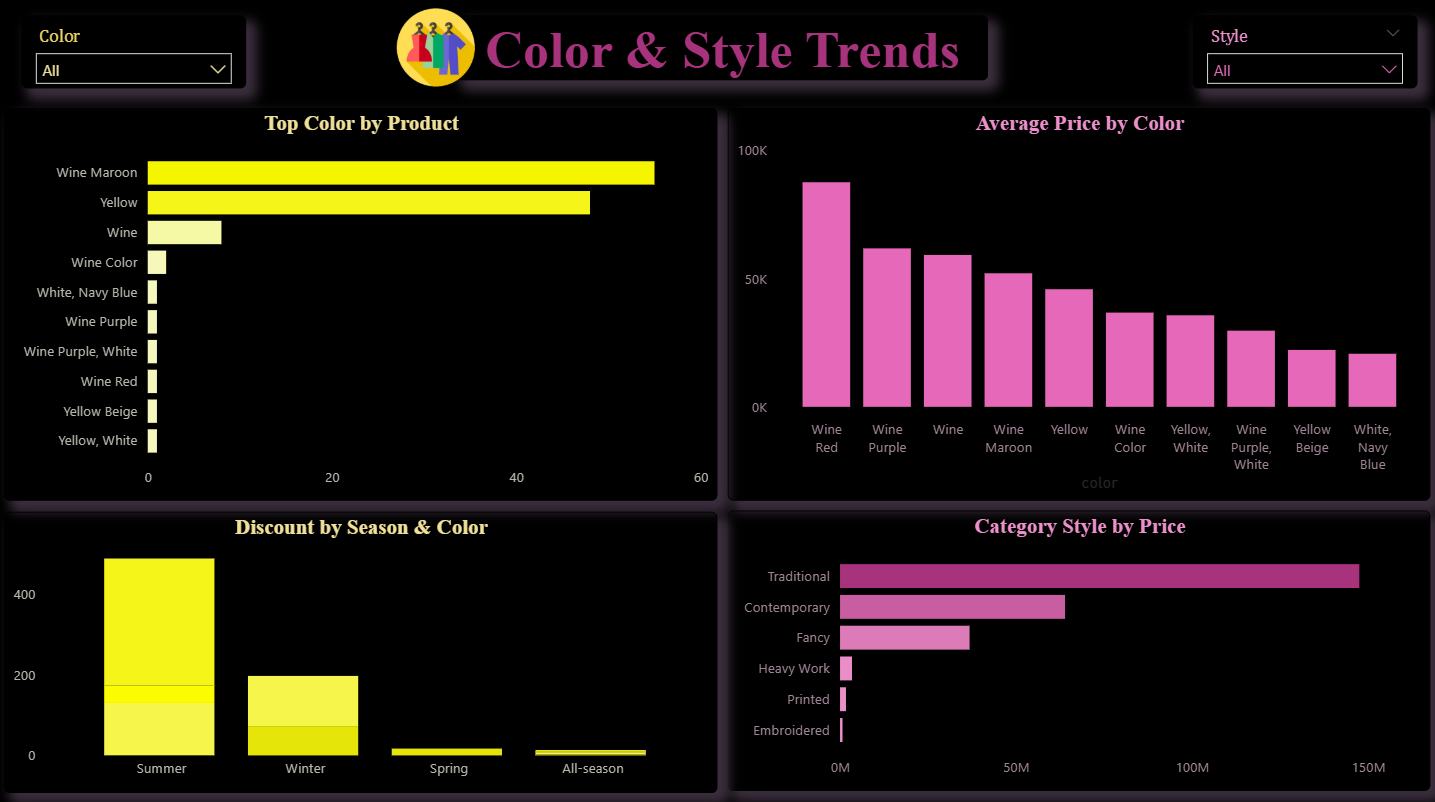

The dashboard page shown, as its layout file describes it:
{"tool":"powerbi","page":{"name":"Color & Style Trends","canvas":[1280,720],"ordinal":2},"visuals":[{"type":"textbox","title":"Color & Style Trends","box":[406.2,15.1,474.8,57.6],"z":0},{"type":"clusteredBarChart","title":"Top Color by Product","fields":{"Category":["Wardrobe Assistant.color"],"Y":["CountNonNull(Wardrobe Assistant.product_name)"]},"box":[4.1,97.4,635.3,349.9],"z":1000},{"type":"clusteredColumnChart","title":"Average Price by Color","fields":{"Category":["Wardrobe Assistant.color"],"Y":["Avg(Wardrobe Assistant.price_pkr)"]},"box":[649.1,97.4,625.7,349.9],"z":2000},{"type":"barChart","title":"Category Style by Price","fields":{"Category":["Wardrobe Assistant.Category Style"],"Y":["Sum(Wardrobe Assistant.price_pkr)"]},"box":[649.1,456.9,625.7,249.7],"z":3000},{"type":"columnChart","title":"Discount by Season & Color ","fields":{"Category":["Wardrobe Assistant.season"],"Y":["Sum(Wardrobe Assistant.discount)"],"Series":["Wardrobe Assistant.color"]},"box":[4,457,635,250],"z":4000},{"type":"slicer","fields":{"Values":["Wardrobe Assistant.color"]},"box":[20.6,15.1,200.3,64.5],"z":5000},{"type":"slicer","fields":{"Values":["Wardrobe Assistant.Category Style"]},"box":[1063.5,15.1,200.3,64.5],"z":6000},{"type":"image","box":[321.1,4.1,137.2,79.6],"z":7000}]}

Visuals, with their boxes in screenshot pixels (x1, y1, x2, y2), scaled from the page's 1280x720 canvas onto the 1435x802 screenshot:
"Color & Style Trends" textbox: [x1=455, y1=17, x2=988, y2=81]
"Top Color by Product" clusteredBarChart: [x1=5, y1=108, x2=717, y2=498]
"Average Price by Color" clusteredColumnChart: [x1=728, y1=108, x2=1429, y2=498]
"Category Style by Price" barChart: [x1=728, y1=509, x2=1429, y2=787]
"Discount by Season & Color " columnChart: [x1=4, y1=509, x2=716, y2=788]
slicer - Wardrobe Assistant.color: [x1=23, y1=17, x2=248, y2=89]
slicer - Wardrobe Assistant.Category Style: [x1=1192, y1=17, x2=1417, y2=89]
image: [x1=360, y1=5, x2=514, y2=93]
